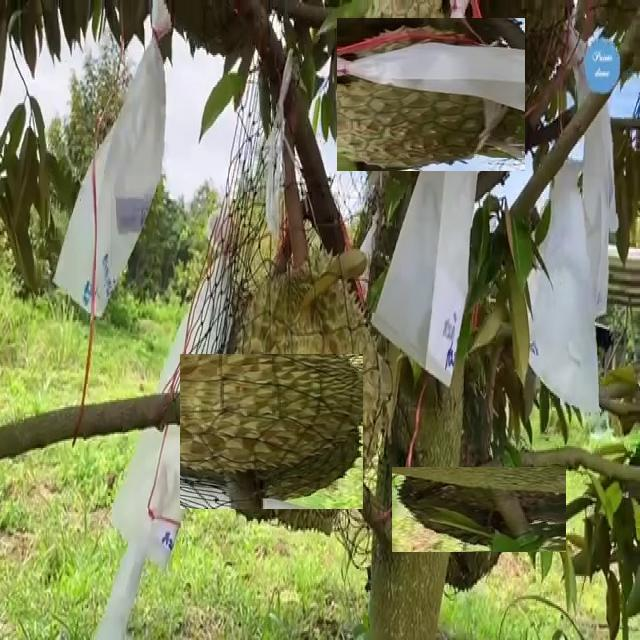durian: (222, 263, 390, 535), (346, 8, 516, 180), (187, 347, 357, 516), (413, 444, 544, 574)
